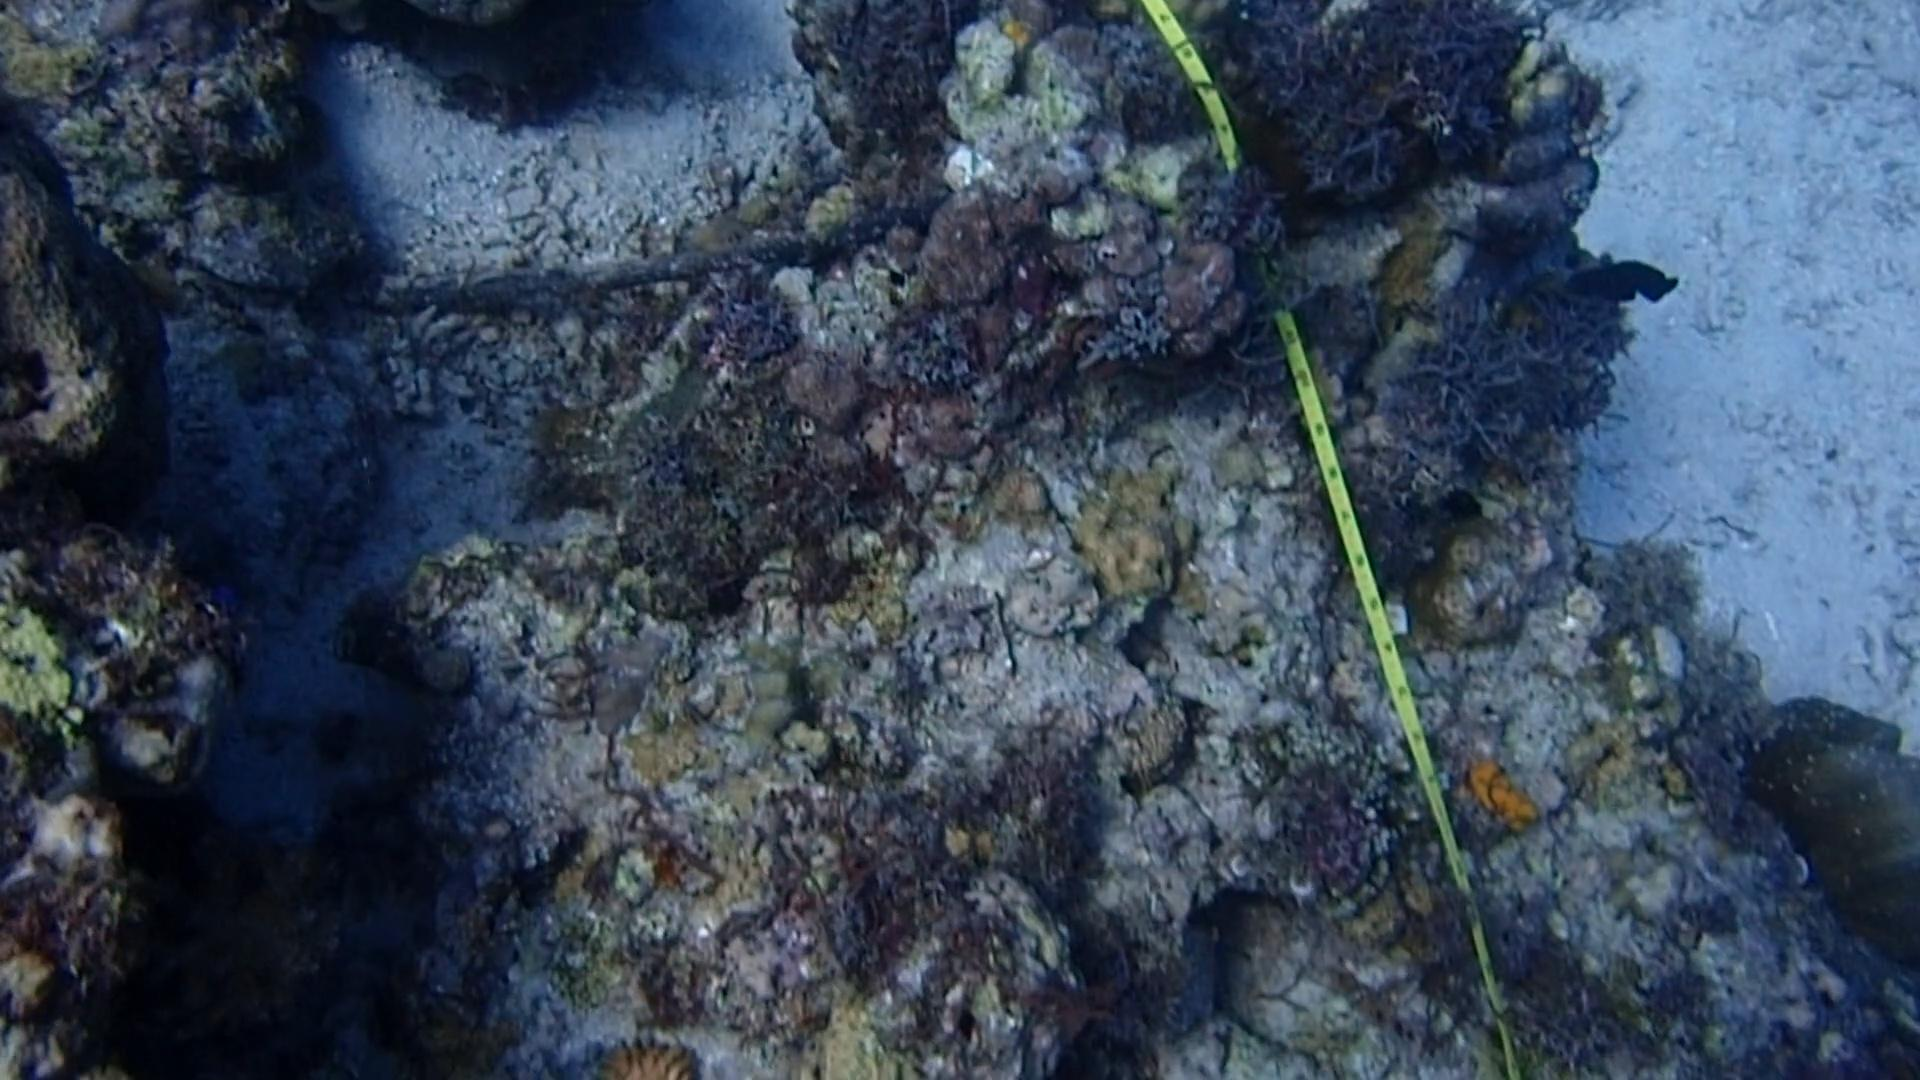Dark Fish: (1551, 251, 1693, 328)
